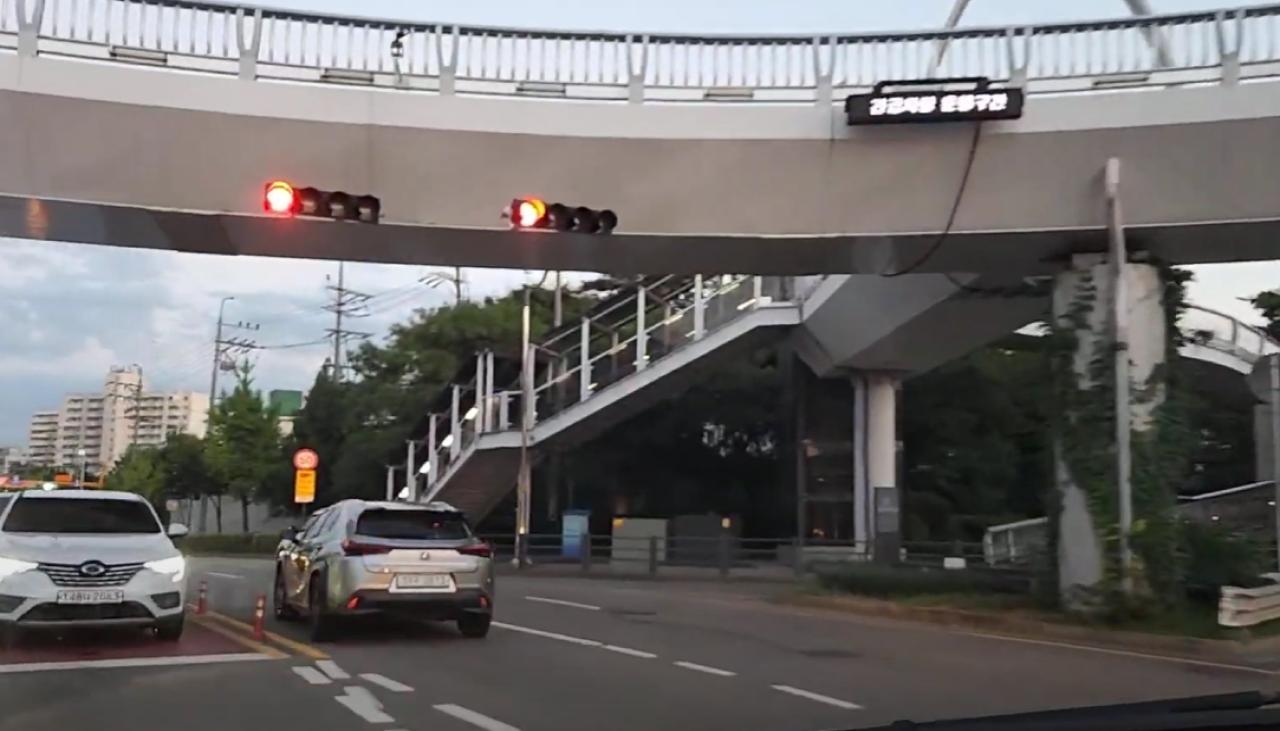Red Light: (509, 195, 546, 231), (264, 179, 296, 215)
